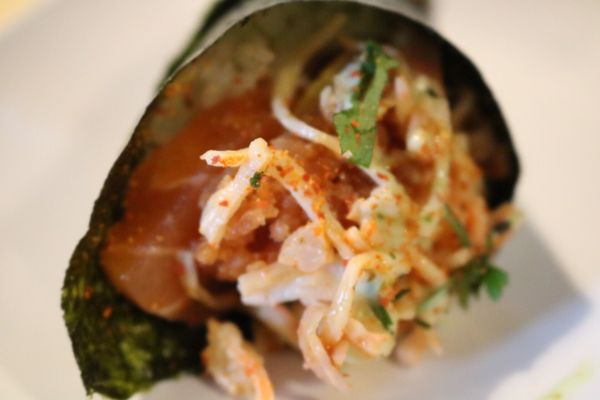curry: (331, 40, 401, 168)
